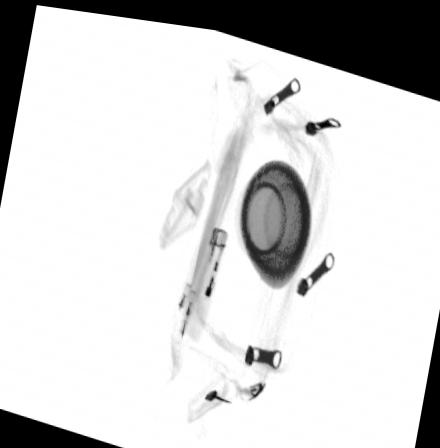Lighter: (172, 220, 227, 344)
